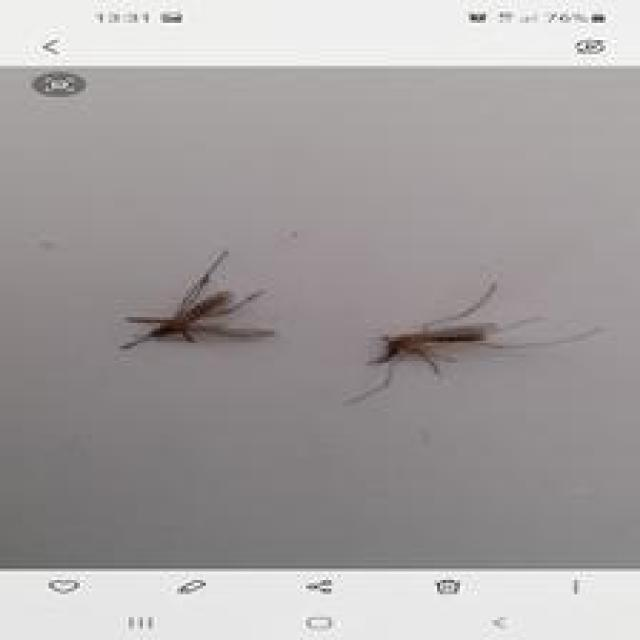Culex: (118, 248, 276, 352)
